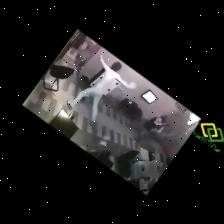person: (66, 55, 135, 125)
